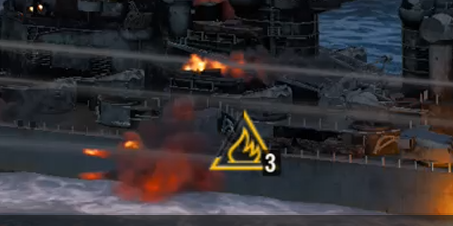3fire: (203, 137, 282, 177)
